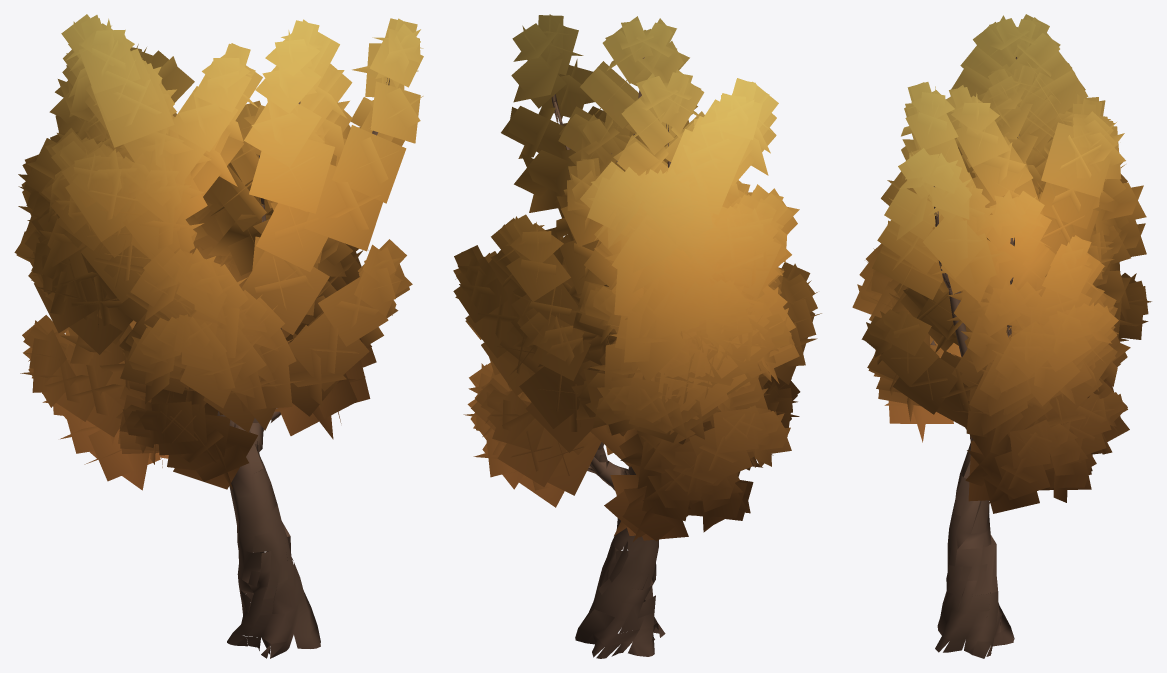
The model's file is q_tree_golden.glb.
3 renders of one model, left to right at view 1: azimuth 30°, elevation 25°; view 2: azimuth 150°, elevation 25°; view 3: azimuth 270°, elevation 25°, orthographic. The views are drawn at different scales.
Visible parts, largest first — view 1: Leaves, Trunk; view 2: Leaves, Trunk; view 3: Leaves, Trunk.
Part boxes in pixels (box(x1,y1,x2,y2)): Leaves: box(14, 14, 423, 490); Trunk: box(217, 78, 389, 658); Leaves: box(453, 14, 821, 541); Trunk: box(551, 57, 670, 658); Leaves: box(852, 14, 1151, 513); Trunk: box(930, 57, 1019, 658).
Bounding box in the file's own units: 3.33 × 6 × 2.9.
